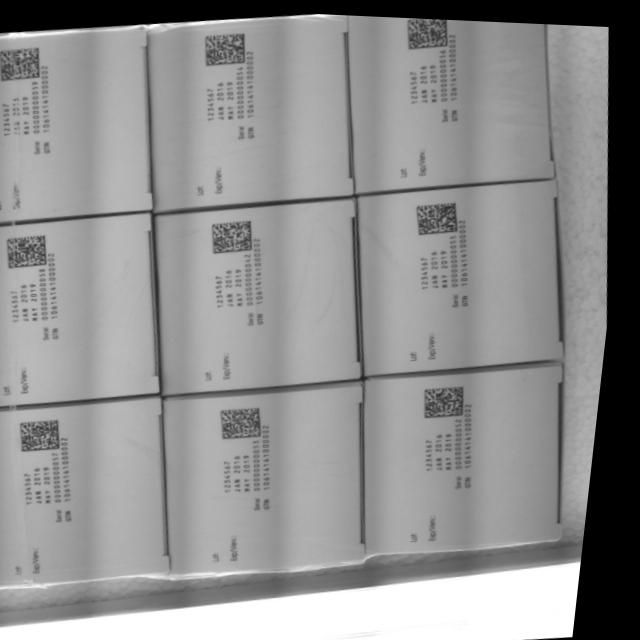datamatrix: (224, 400, 274, 440), (202, 27, 252, 67), (9, 231, 60, 270), (24, 414, 74, 453), (212, 215, 262, 254), (417, 194, 467, 233), (427, 377, 477, 416), (1, 45, 46, 84), (402, 15, 452, 48)
